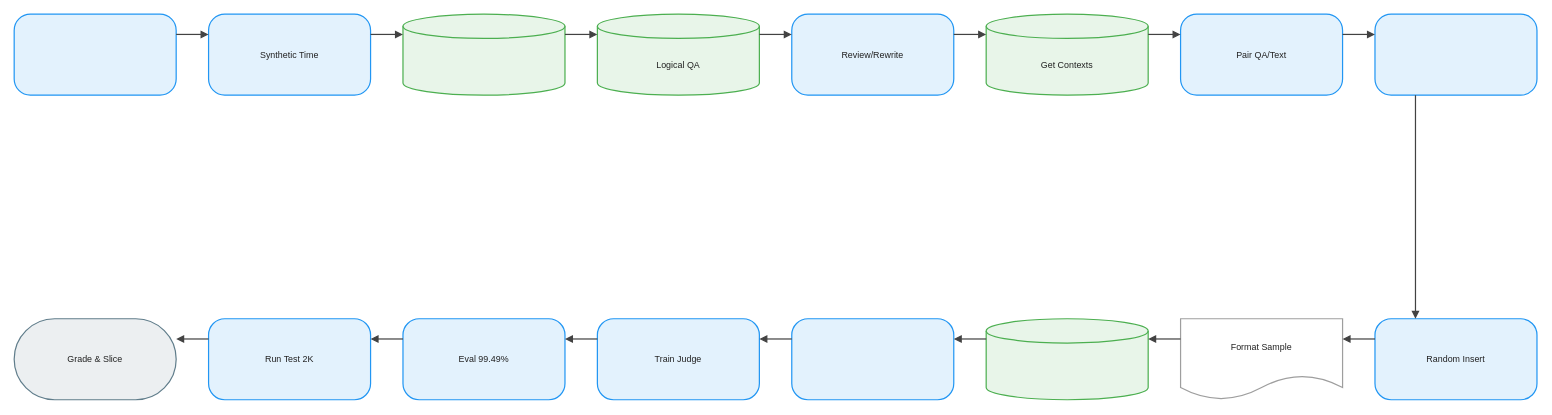
Some shapes in this 1552 by 415 pixel diagram are drawn without their labels. The box of each missing label's shape, as (x1, y1, x2, y2) in pixels:
3 Pipelines: (13, 13, 176, 95)
4 Variants: (791, 318, 954, 400)
Real TKG Time: (402, 13, 565, 95)
Shuffle: (1374, 13, 1537, 95)
Split 10/2/2K: (985, 318, 1148, 400)
